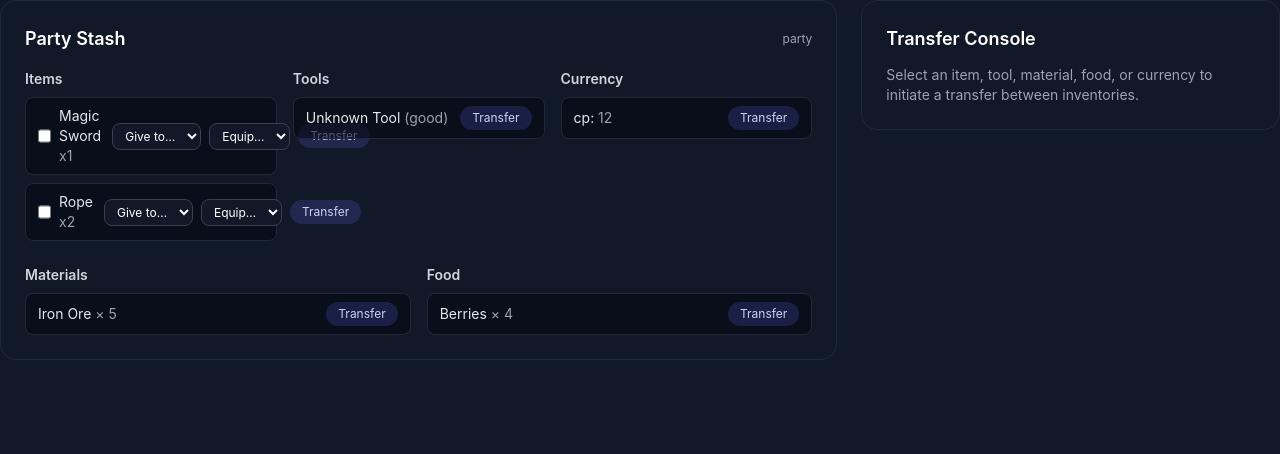
PartyStashView › shows the bulk action bar with the selected item count
This screenshot has width=1280, height=454.
Click the checkbox named "Select Magic Sword". click: (44, 136)
box: x1=38 y1=128 x2=51 y2=144
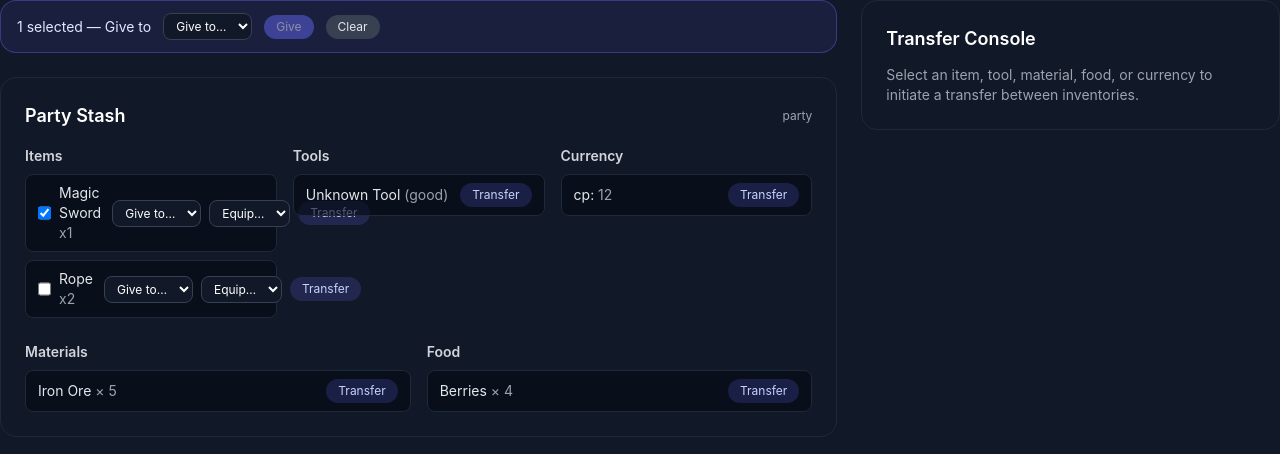
Now the text "1 selected — Give to" is shown, box x1=17 y1=16 x2=151 y2=36
Click the checkbox named "Select Rope". click: (44, 289)
box: x1=38 y1=281 x2=51 y2=297
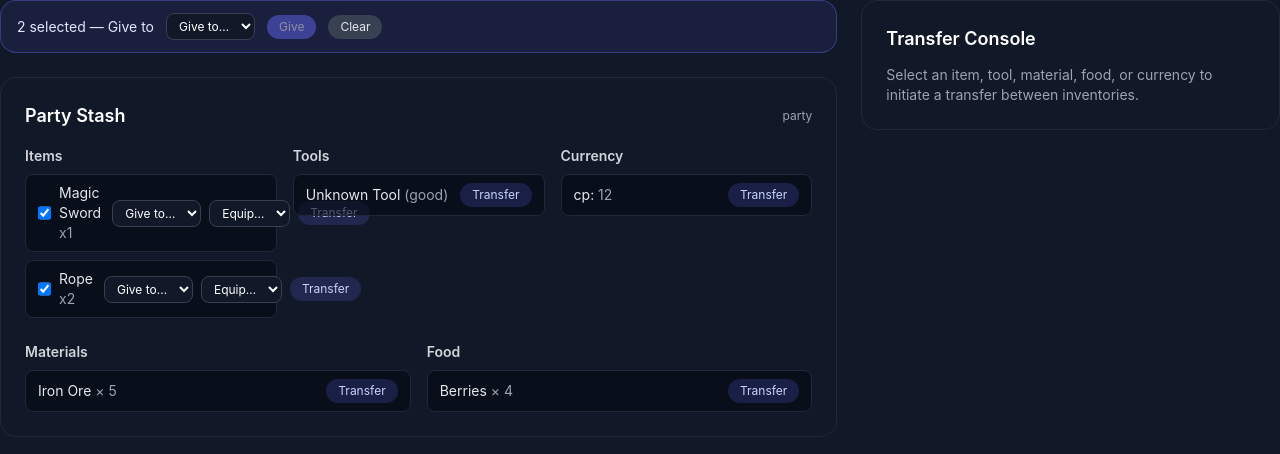
Now the text "2 selected — Give to" is shown, box x1=17 y1=16 x2=154 y2=36
